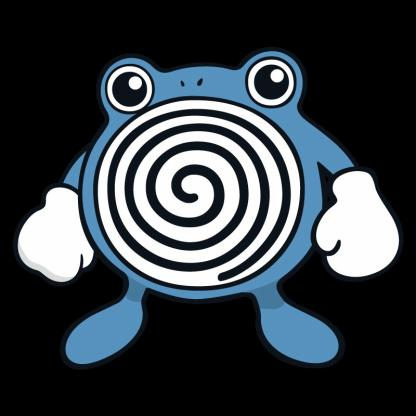Poliwhirl: (30, 51, 405, 374)
